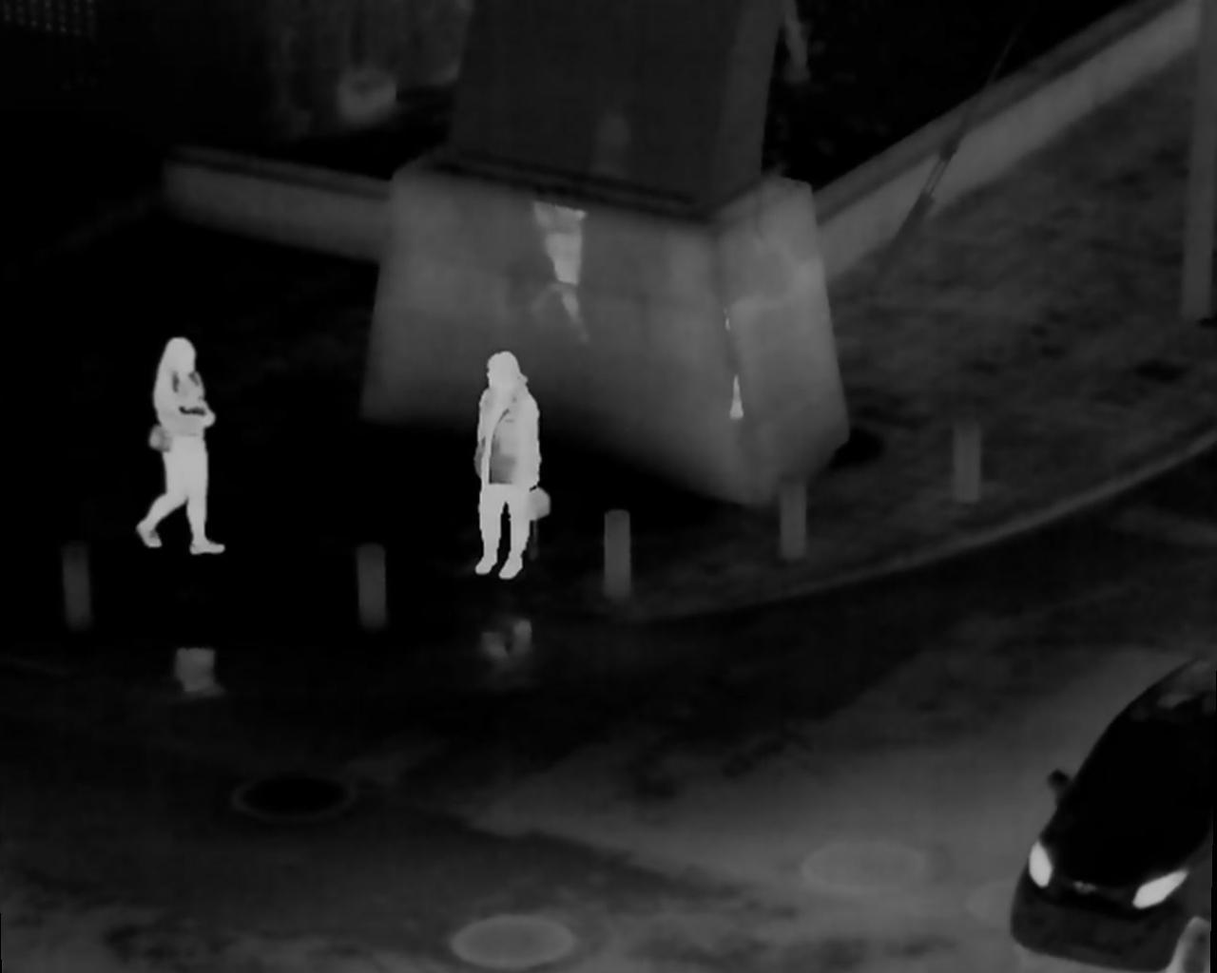person: (145, 338, 235, 552), (471, 352, 544, 580)
